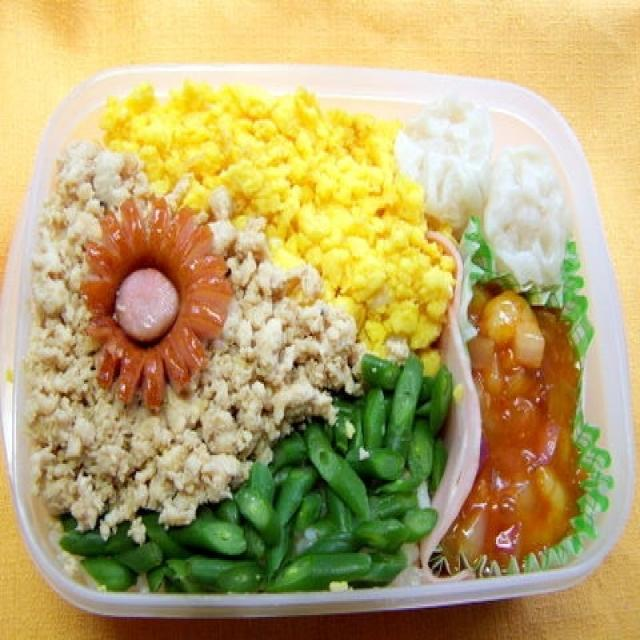鸡蛋料理: (9, 43, 614, 624)
